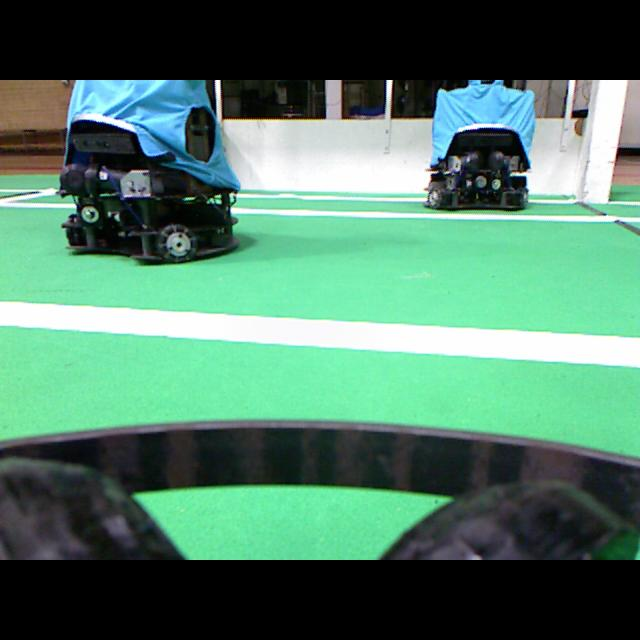goal: (584, 80, 627, 202)
